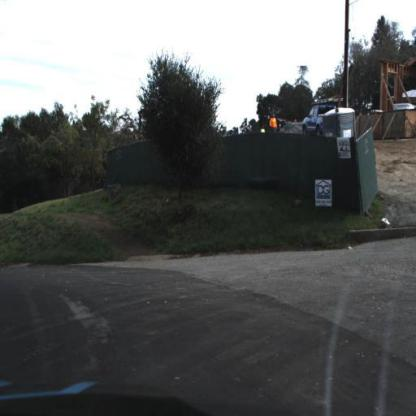pedestrian: (269, 108, 281, 138)
